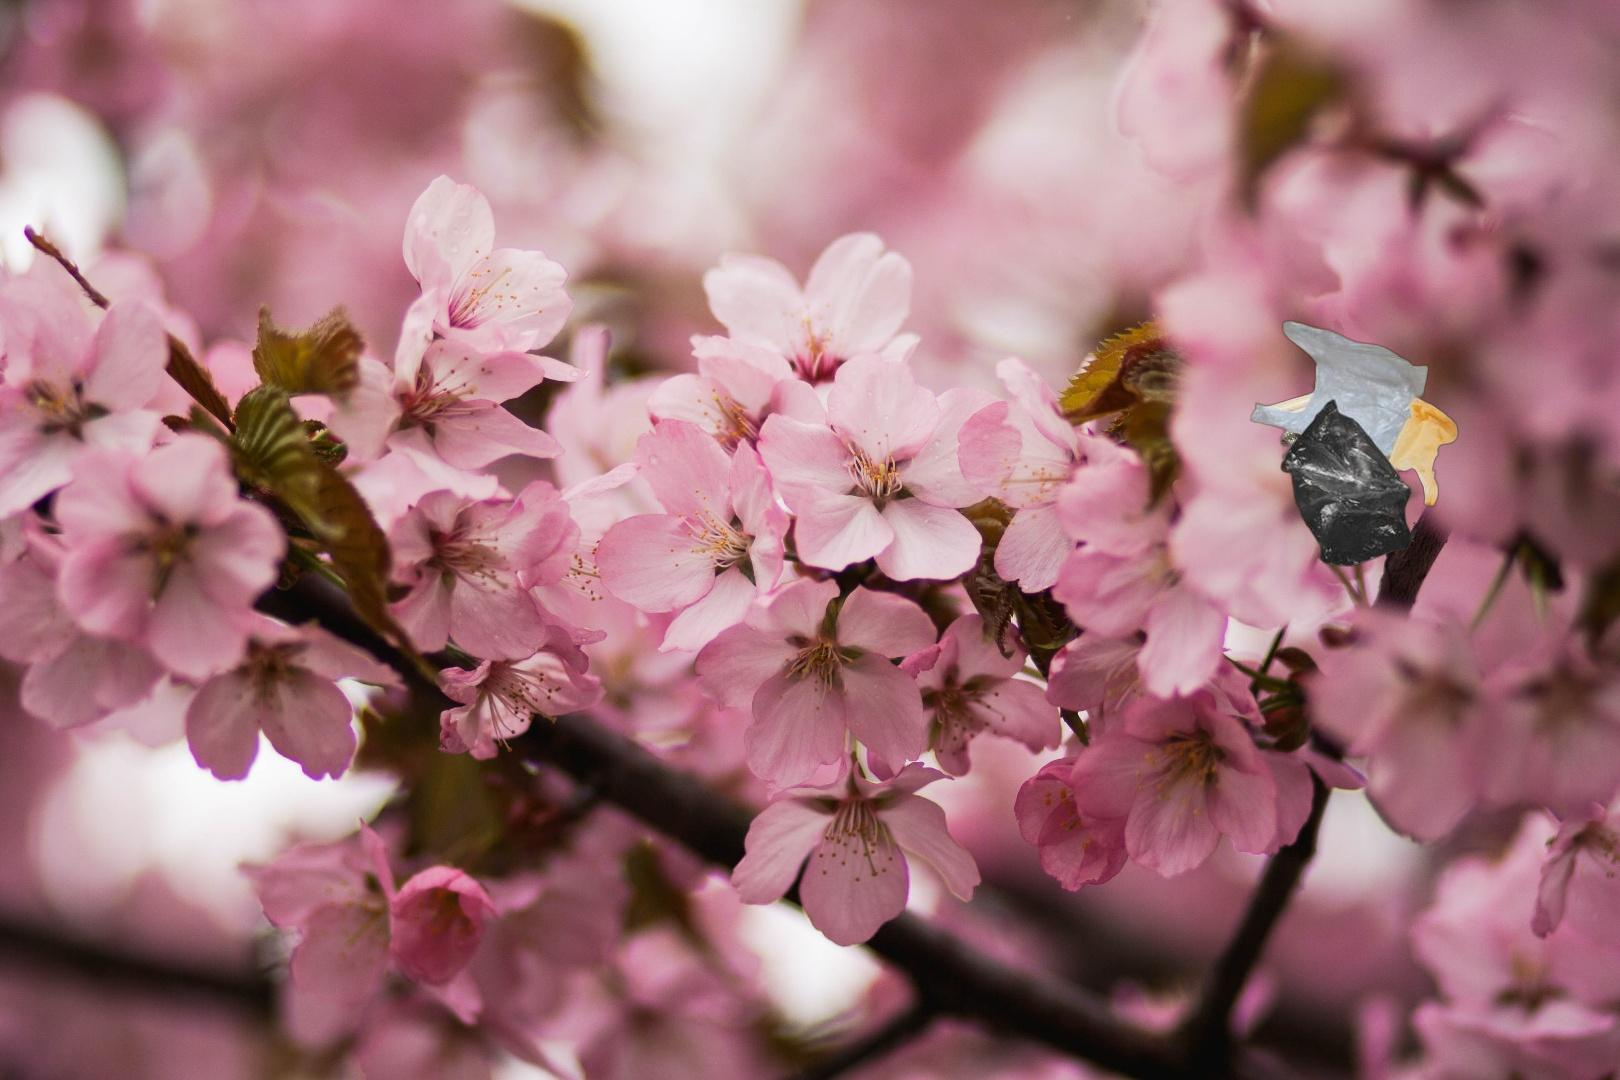plastic-bag: (1248, 319, 1461, 570)
